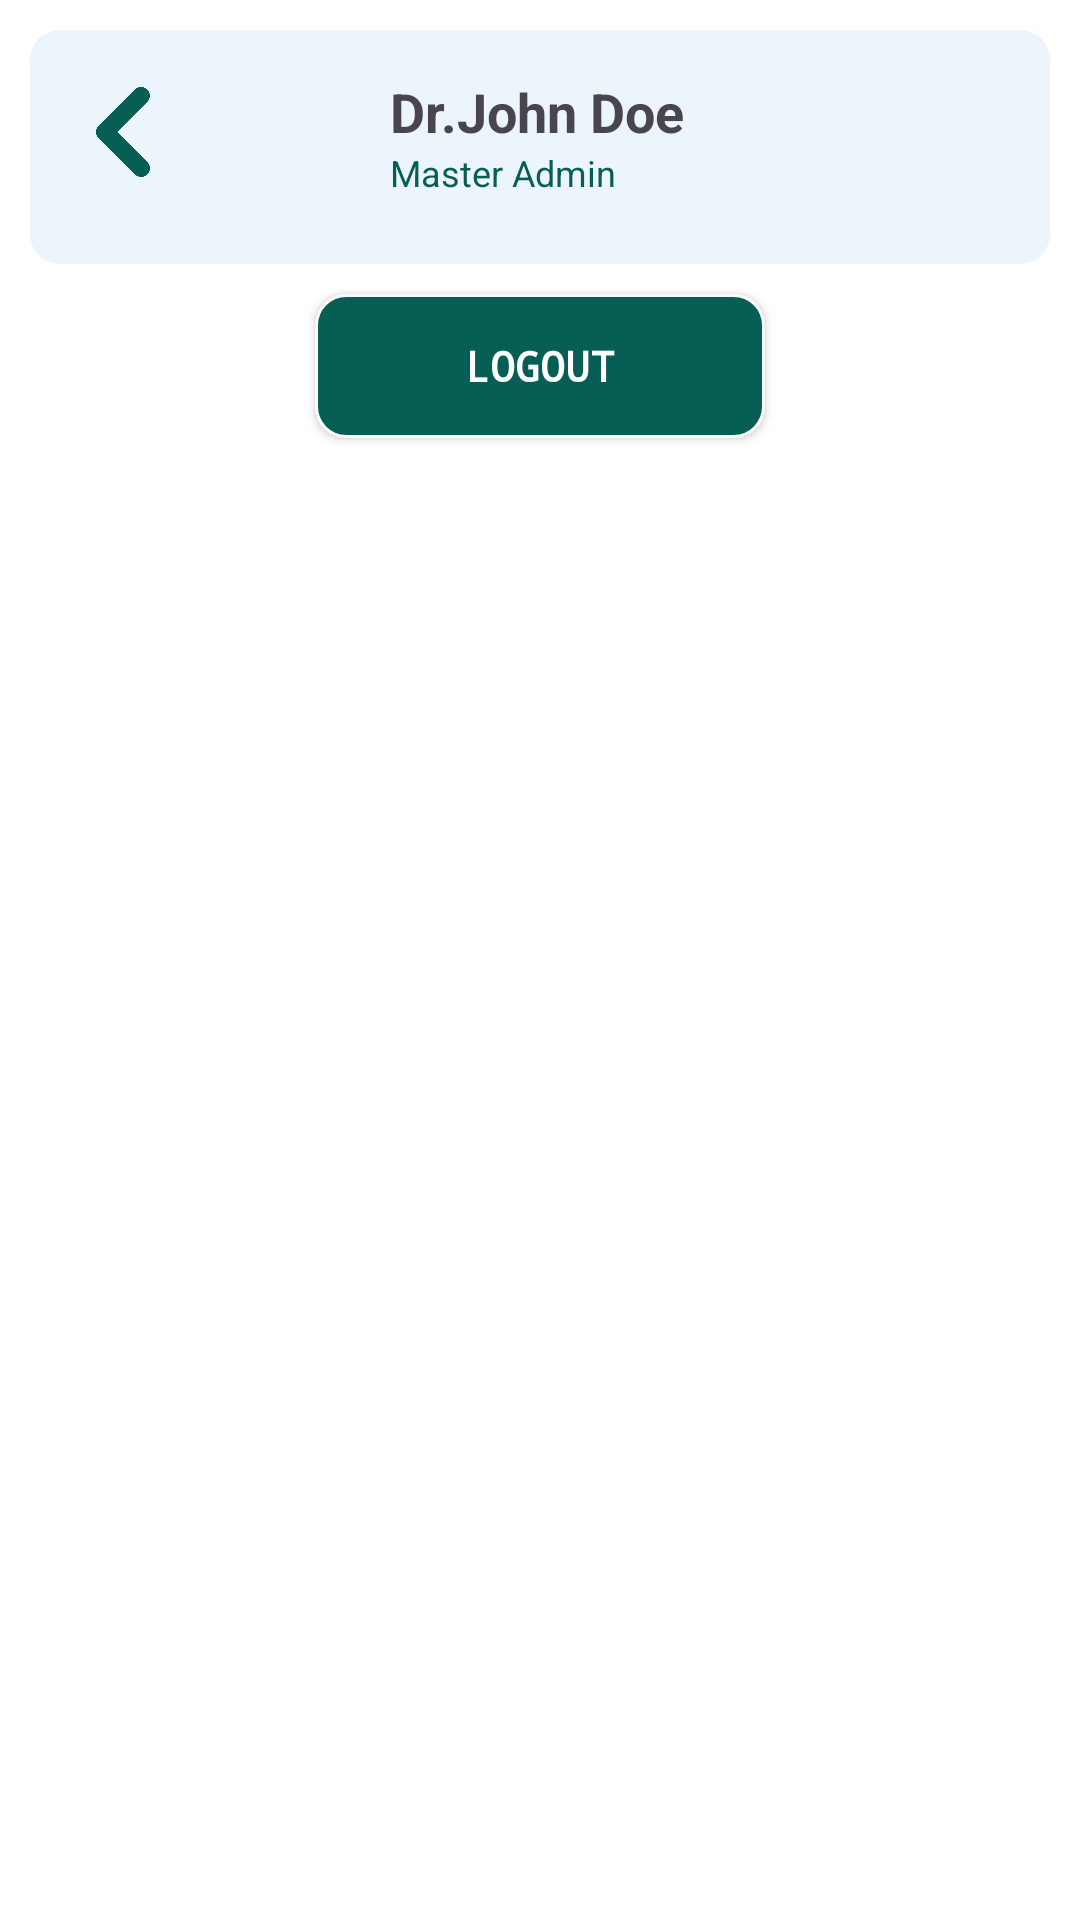

Icons on this 1080 × 1920 Android screen, each with the point to tap as point (x, y):
previous: point (123, 132)
